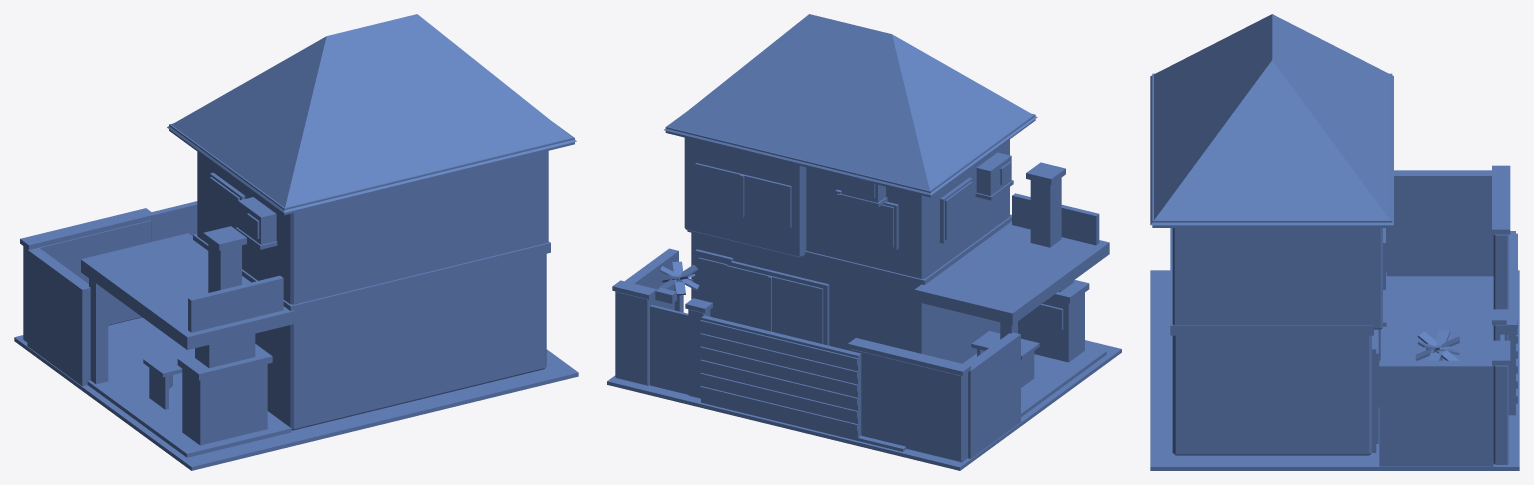
The picture shows the model from 3 angles, left to right: view 1: azimuth 30°, elevation 25°; view 2: azimuth 150°, elevation 25°; view 3: azimuth 270°, elevation 25°; orthographic projection. The views are drawn at different scales.
Visible parts, largest first — view 1: corpo; view 2: corpo; view 3: corpo.
Boxes of the visible parts, box(x1,y1,x2,y2) form: corpo: box(14, 14, 578, 470); corpo: box(607, 14, 1121, 470); corpo: box(1150, 14, 1519, 470).
Size of the model in its own units: 1.26 by 1.07 by 1.
